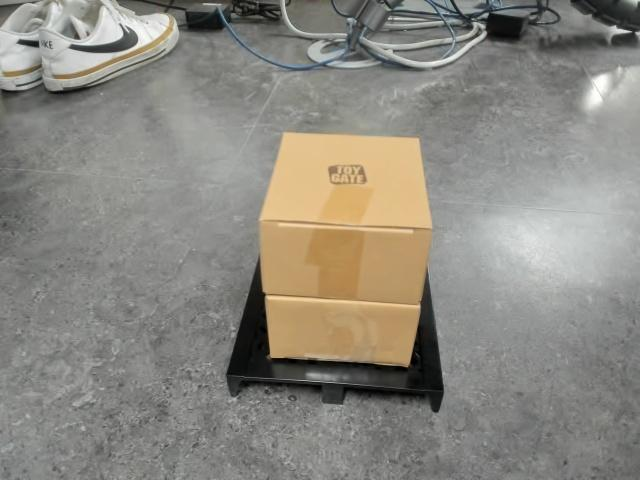box: (222, 130, 450, 417)
